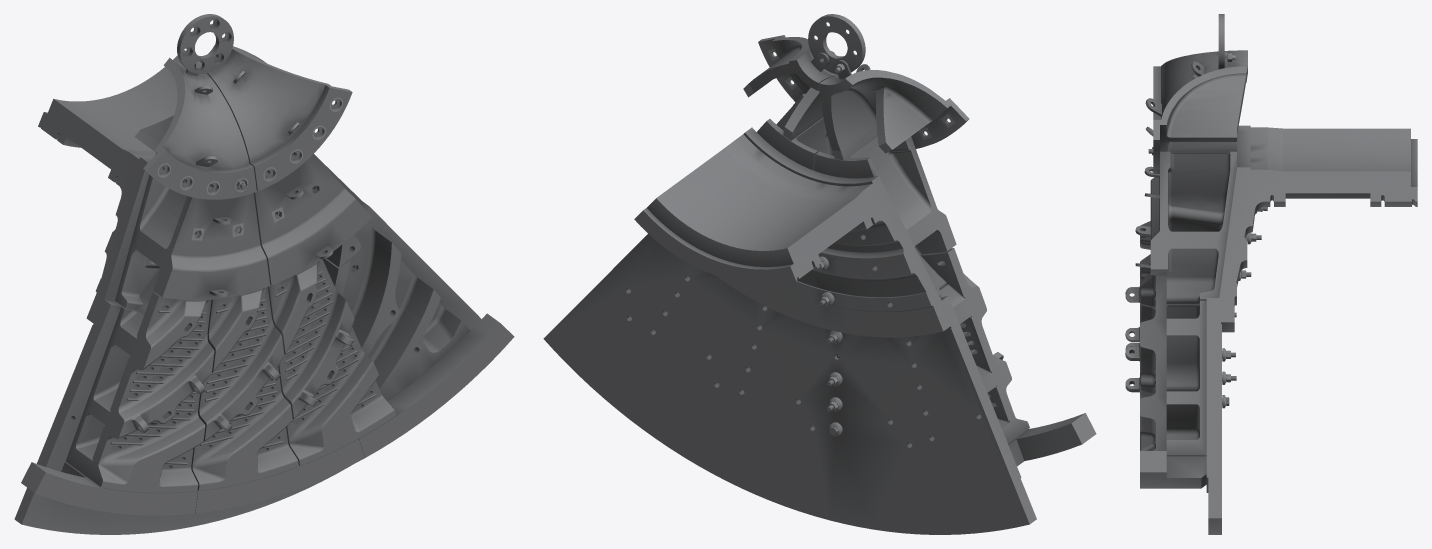
Rendered from sag-de-curved-pulp-lifter.glb.
3 views of the same model, side by side, from view 1: azimuth 30°, elevation 25°; view 2: azimuth 150°, elevation 25°; view 3: azimuth 270°, elevation 25° (orthographic). The views are drawn at different scales.
Visible parts, largest first — view 1: metal, bolt; view 2: metal, bolt; view 3: metal, bolt.
Boxes of the visible parts, x1,y1,x2,y2 form: metal: (14, 14, 514, 534); bolt: (151, 60, 343, 264); metal: (543, 14, 1096, 534); bolt: (767, 48, 954, 436); metal: (1125, 14, 1417, 534); bolt: (1152, 53, 1262, 408).
Size of the model in its own units: 4.12 by 3.92 by 2.19.
3 materials, 1 textured.
